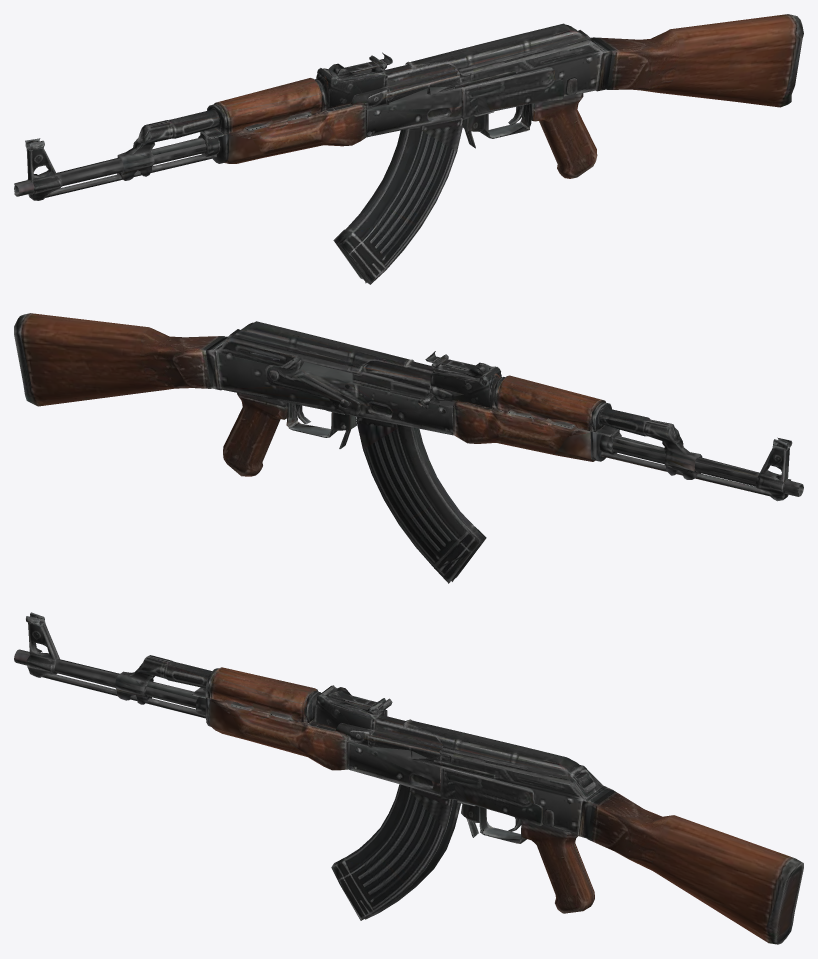
Rendered from arma_ak47.glb.
3 renders of one model, top to bottom at view 1: azimuth 30°, elevation 25°; view 2: azimuth 150°, elevation 25°; view 3: azimuth 330°, elevation 25°, orthographic.
Size of the model in its own units: 0.9575 by 0.2617 by 0.0605.
1 material, 1 textured.
